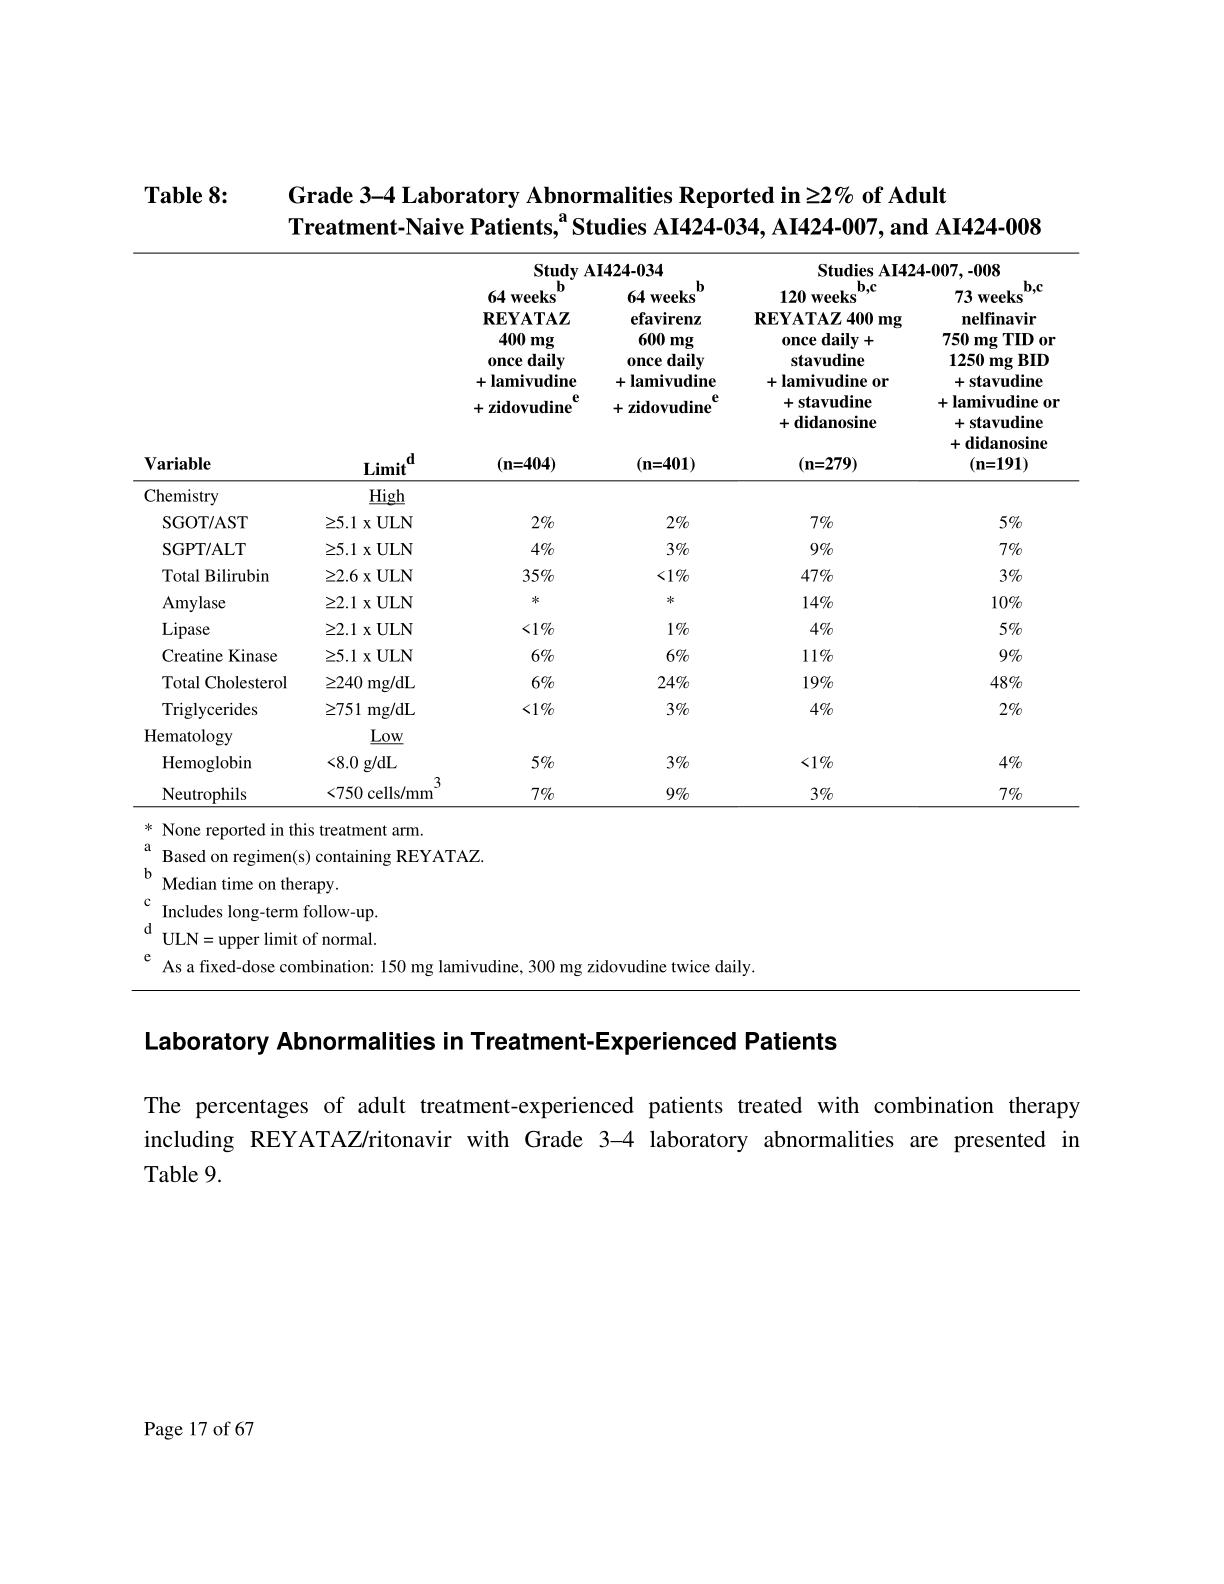partial_lined_merged_cells: (129, 249, 1080, 811)
